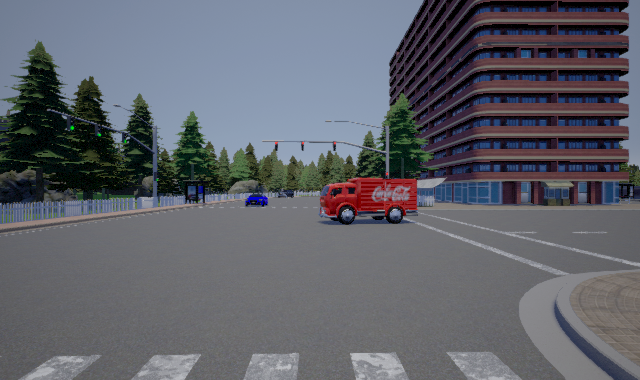traffic_light: (67, 116, 75, 131), (95, 124, 102, 137), (122, 132, 128, 143), (154, 172, 159, 181), (333, 141, 336, 151), (301, 141, 304, 151), (275, 141, 278, 151), (385, 172, 388, 179)
vehicle: (318, 178, 418, 225), (243, 192, 270, 207)
